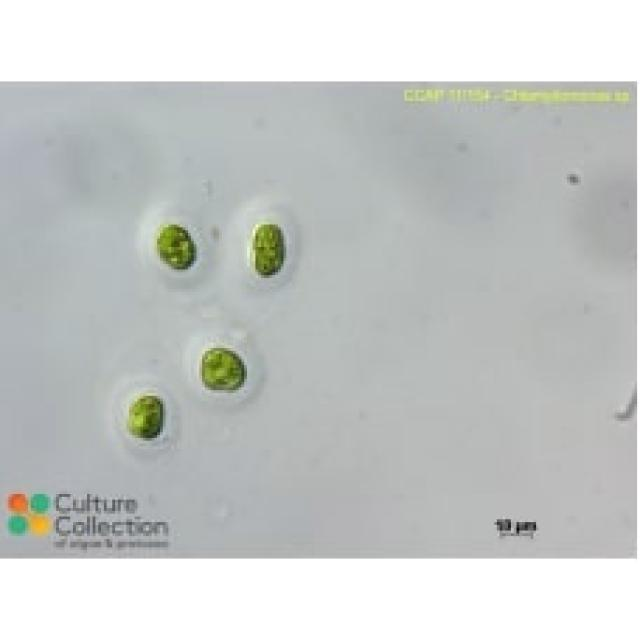Green Algae: (146, 219, 208, 278), (115, 388, 174, 447), (196, 346, 252, 402), (247, 219, 292, 283)
